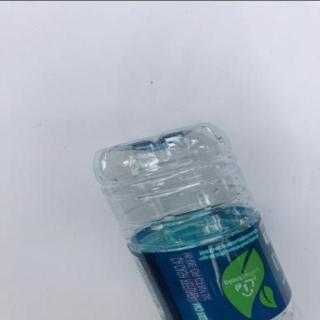Anorganik: (87, 118, 303, 320)
